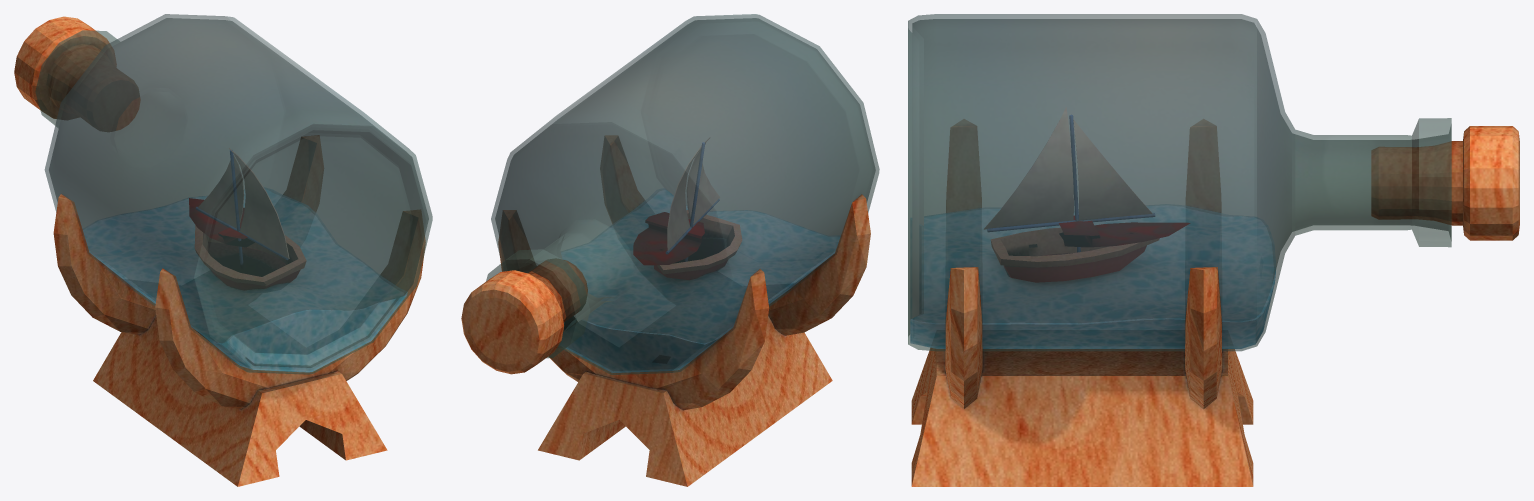
Rendered from zShipBottle.glb.
The picture shows the model from 3 angles, left to right: view 1: azimuth 30°, elevation 25°; view 2: azimuth 150°, elevation 25°; view 3: azimuth 270°, elevation 25°; orthographic projection. The views are drawn at different scales.
Parts seen in each view (by area): view 1: Object005_id_6_Object005_id_6_0, Object005_id_7_Object005_id_7_0, Object005_id_5_Object005_id_5_0, Object005_id_4_Object005_id_4_0, Object005_id_2_Object005_id_2_0, Object005_id_3_Object005_id_3_0, Object005_id_1_Object005_id_1_0, Object005_id_8_Object005_id_8_0; view 2: Object005_id_6_Object005_id_6_0, Object005_id_7_Object005_id_7_0, Object005_id_5_Object005_id_5_0, Object005_id_1_Object005_id_1_0, Object005_id_4_Object005_id_4_0, Object005_id_2_Object005_id_2_0, Object005_id_8_Object005_id_8_0; view 3: Object005_id_6_Object005_id_6_0, Object005_id_7_Object005_id_7_0, Object005_id_5_Object005_id_5_0, Object005_id_4_Object005_id_4_0, Object005_id_2_Object005_id_2_0, Object005_id_1_Object005_id_1_0, Object005_id_3_Object005_id_3_0, Object005_id_8_Object005_id_8_0.
Boxes of the visible parts, x1,y1,x2,y2 form: Object005_id_6_Object005_id_6_0: (35, 14, 432, 374); Object005_id_7_Object005_id_7_0: (14, 16, 425, 486); Object005_id_5_Object005_id_5_0: (83, 187, 407, 372); Object005_id_4_Object005_id_4_0: (198, 148, 289, 258); Object005_id_2_Object005_id_2_0: (195, 225, 306, 285); Object005_id_3_Object005_id_3_0: (208, 242, 299, 290); Object005_id_1_Object005_id_1_0: (189, 198, 254, 247); Object005_id_8_Object005_id_8_0: (196, 150, 288, 268); Object005_id_6_Object005_id_6_0: (486, 14, 879, 374); Object005_id_7_Object005_id_7_0: (461, 136, 870, 486); Object005_id_5_Object005_id_5_0: (559, 188, 840, 372); Object005_id_1_Object005_id_1_0: (633, 212, 704, 264); Object005_id_4_Object005_id_4_0: (667, 138, 719, 250); Object005_id_2_Object005_id_2_0: (657, 210, 741, 273); Object005_id_8_Object005_id_8_0: (666, 142, 719, 261); Object005_id_6_Object005_id_6_0: (908, 14, 1451, 351); Object005_id_7_Object005_id_7_0: (911, 119, 1519, 486); Object005_id_5_Object005_id_5_0: (910, 204, 1275, 348); Object005_id_4_Object005_id_4_0: (984, 107, 1151, 247); Object005_id_2_Object005_id_2_0: (991, 228, 1159, 267); Object005_id_1_Object005_id_1_0: (1059, 215, 1189, 246); Object005_id_3_Object005_id_3_0: (1004, 245, 1146, 282); Object005_id_8_Object005_id_8_0: (987, 115, 1154, 252).
Size of the model in its own units: 295 by 365 by 489.
8 materials, 8 textured.
